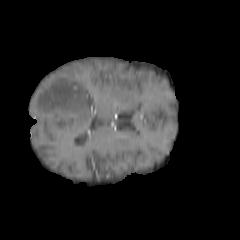glioma: (33, 77, 94, 126)
